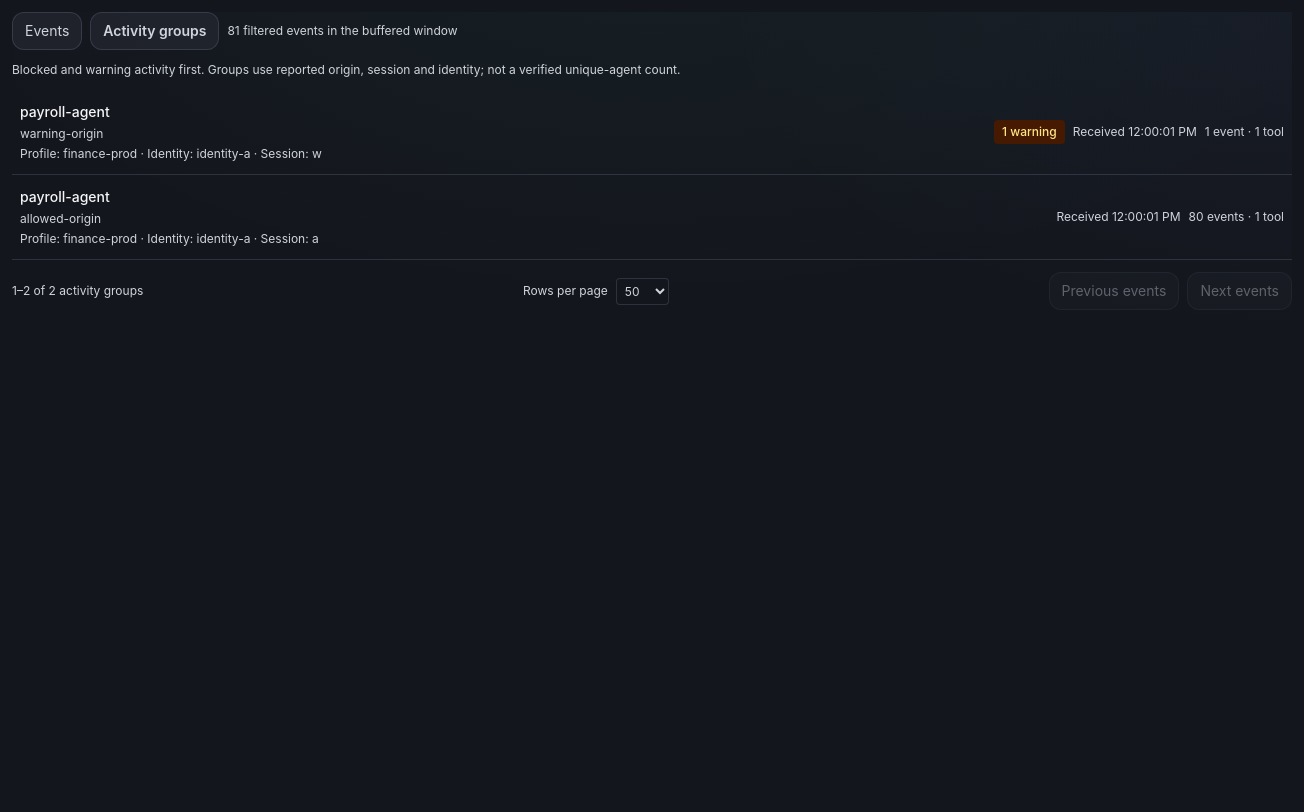
Scenario: keeps warning groups ahead of repetitive allows without hiding the allowed events
Check: the 3rd button shows "warning-origin", box top-left (12, 90), bottom-right (1292, 175)
Check: the 3rd button shows "1 warning", box top-left (12, 90), bottom-right (1292, 175)
Click the button "Events".
click(47, 31)  # box top-left (12, 12), bottom-right (82, 50)
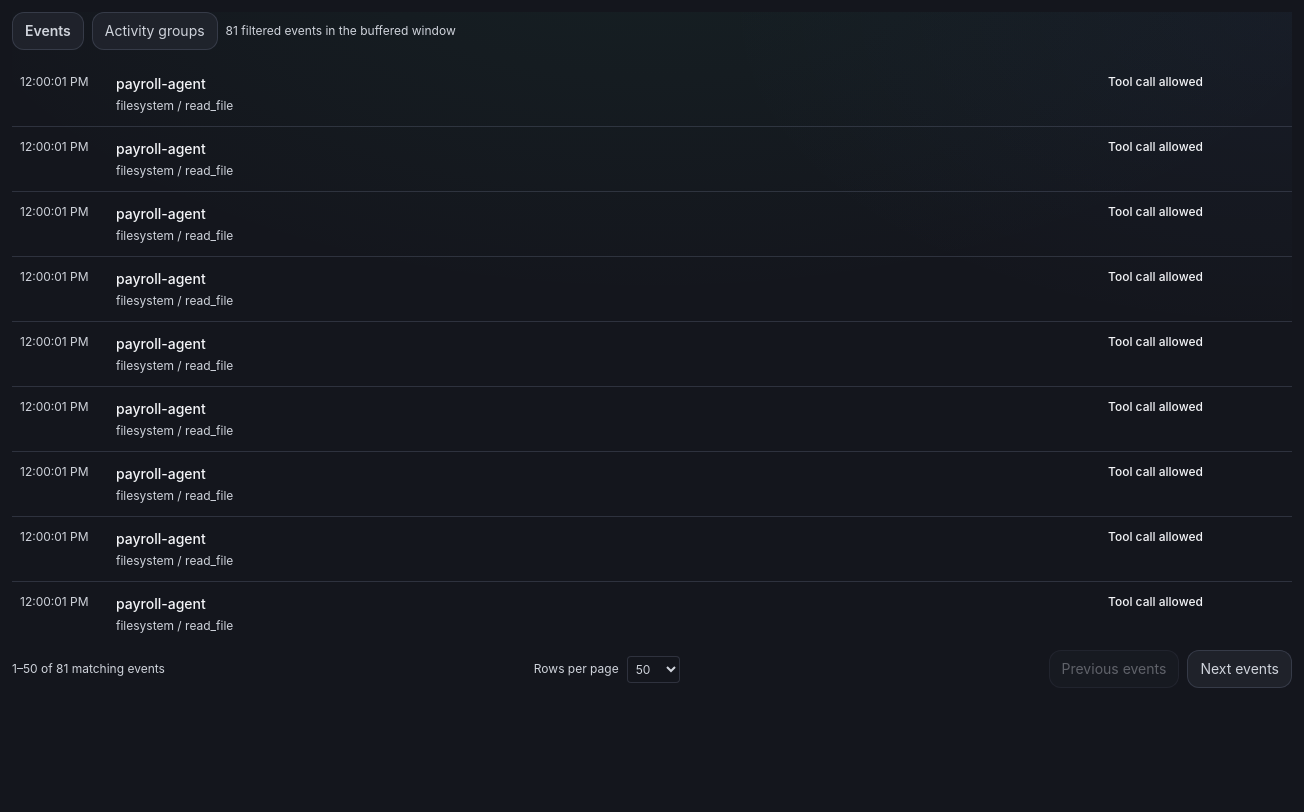
Check: the text "1–50 of 81 matching events" is shown, box top-left (12, 661), bottom-right (165, 677)
